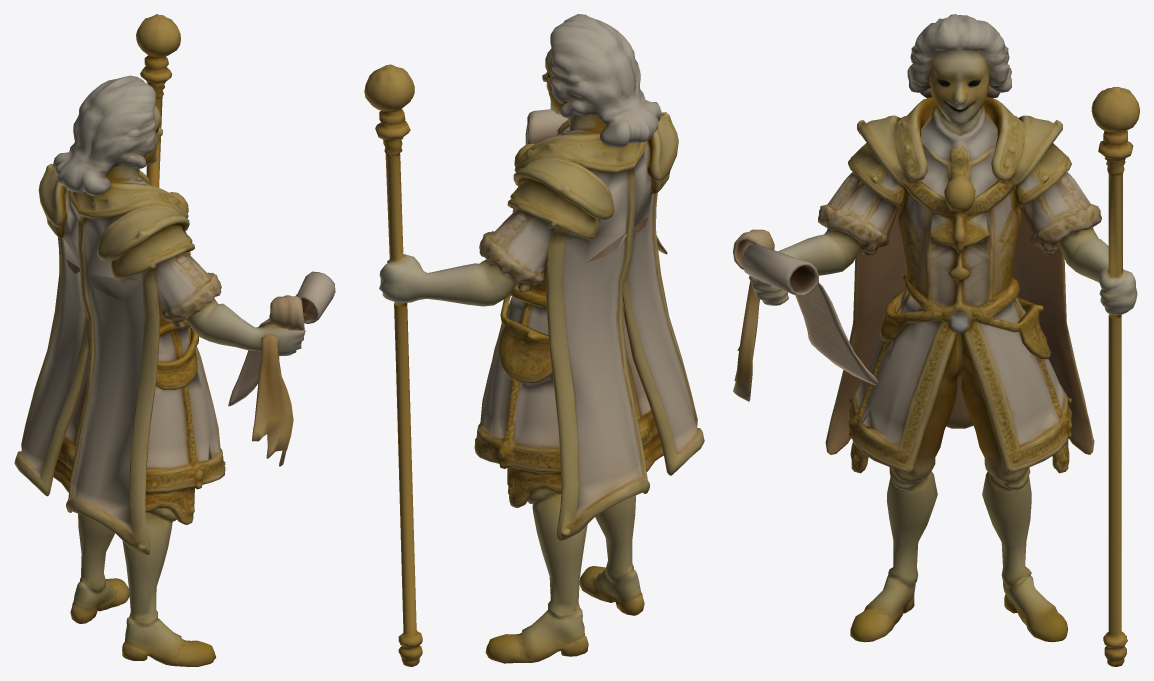
The picture shows the model from 3 angles, left to right: view 1: azimuth 30°, elevation 25°; view 2: azimuth 150°, elevation 25°; view 3: azimuth 270°, elevation 25°; orthographic projection. The views are drawn at different scales.
Visible parts, largest first — view 1: tripo_node_314337d9-8c03-4c0e-b2e1-4135dbb2aadf; view 2: tripo_node_314337d9-8c03-4c0e-b2e1-4135dbb2aadf; view 3: tripo_node_314337d9-8c03-4c0e-b2e1-4135dbb2aadf.
Part boxes in pixels (left/top/right/bottom): tripo_node_314337d9-8c03-4c0e-b2e1-4135dbb2aadf: left=14, top=14, right=335, bottom=666; tripo_node_314337d9-8c03-4c0e-b2e1-4135dbb2aadf: left=364, top=14, right=704, bottom=666; tripo_node_314337d9-8c03-4c0e-b2e1-4135dbb2aadf: left=733, top=14, right=1139, bottom=666.
Size of the model in its own units: 0.3914 by 0.998 by 0.6106.
1 material, 1 textured.
